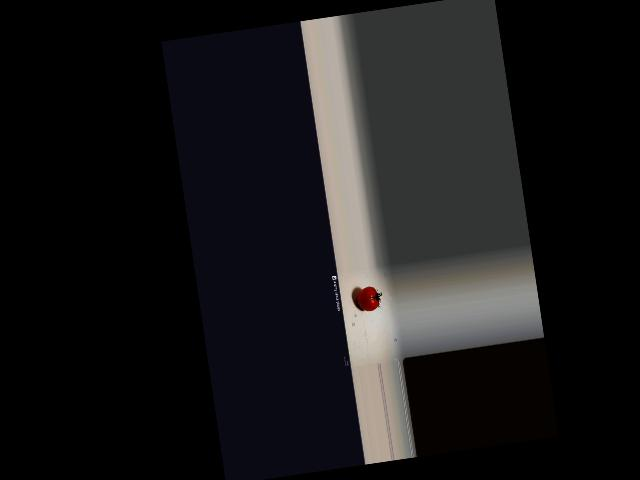tomato: (355, 286, 379, 313)
